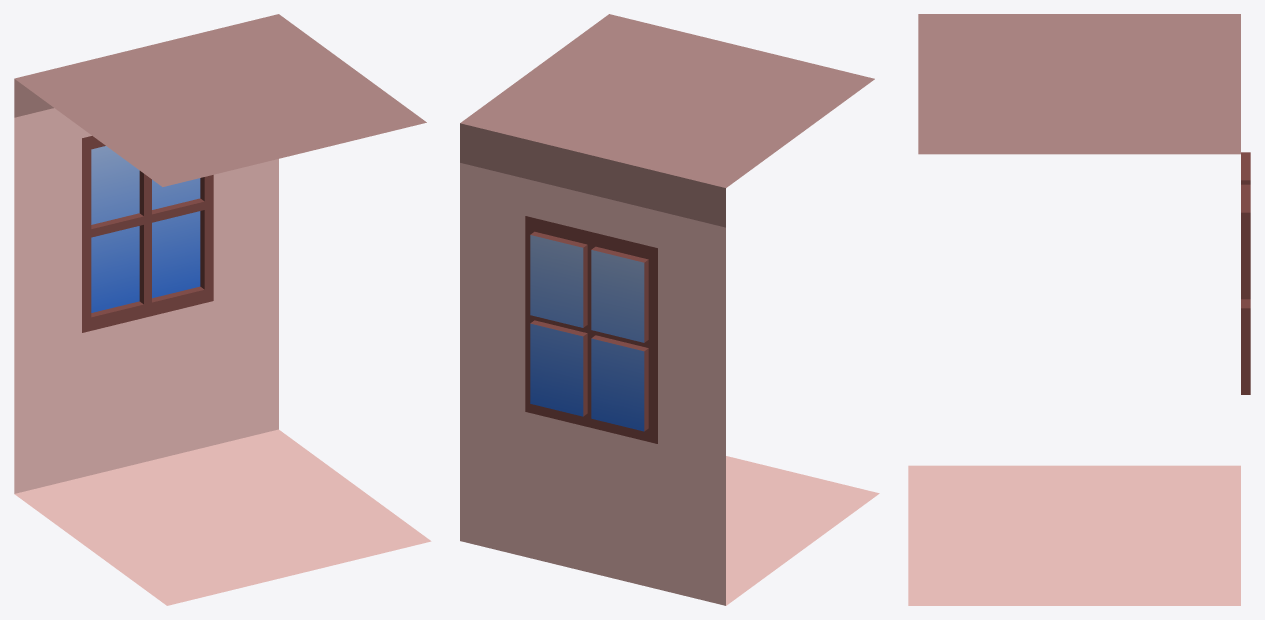
Rendered from Wall_With_Window_Ceiling.fbx.
3 views of the same model, side by side, from view 1: azimuth 30°, elevation 25°; view 2: azimuth 150°, elevation 25°; view 3: azimuth 270°, elevation 25° (orthographic). The views are drawn at different scales.
Parts seen in each view (by area): view 1: Wall_With_Window_Ceiling; view 2: Wall_With_Window_Ceiling; view 3: Wall_With_Window_Ceiling.
Part boxes in pixels (x1,y1,x2,y2): Wall_With_Window_Ceiling: (14, 14, 431, 605); Wall_With_Window_Ceiling: (460, 14, 879, 605); Wall_With_Window_Ceiling: (908, 14, 1250, 605).
Size of the model in its own units: 2 by 3 by 2.06.
